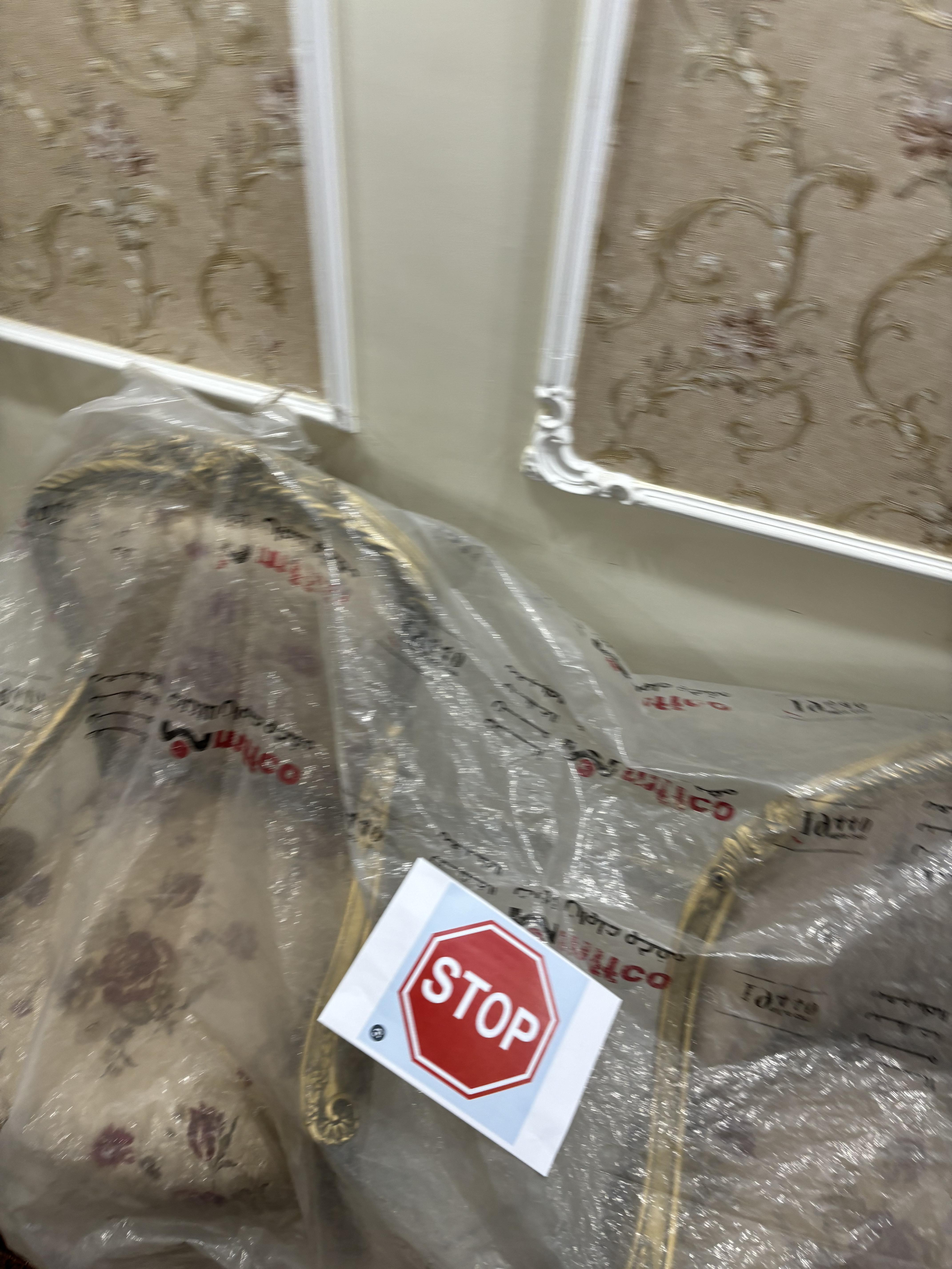Stop: (401, 918, 554, 1107)
